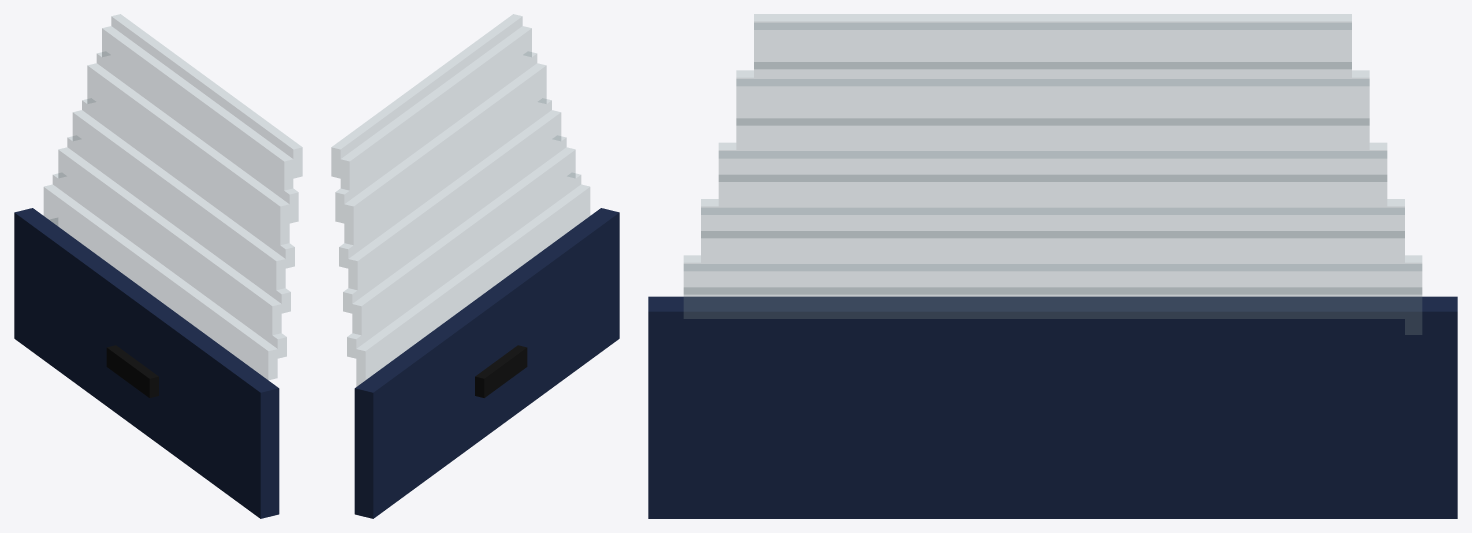
The model's file is minivan_tailgate.glb.
3 views of the same model, side by side, from view 1: azimuth 30°, elevation 25°; view 2: azimuth 150°, elevation 25°; view 3: azimuth 270°, elevation 25° (orthographic). The views are drawn at different scales.
Parts seen in each view (by area): view 1: body:compound; view 2: body:compound; view 3: body:compound.
Boxes of the visible parts, box(x1,y1,x2,y2) form: body:compound: box(14, 14, 302, 518); body:compound: box(331, 14, 619, 518); body:compound: box(648, 14, 1457, 518).
Bounding box in the file's own units: 0.2812 × 1.06 × 1.44.
